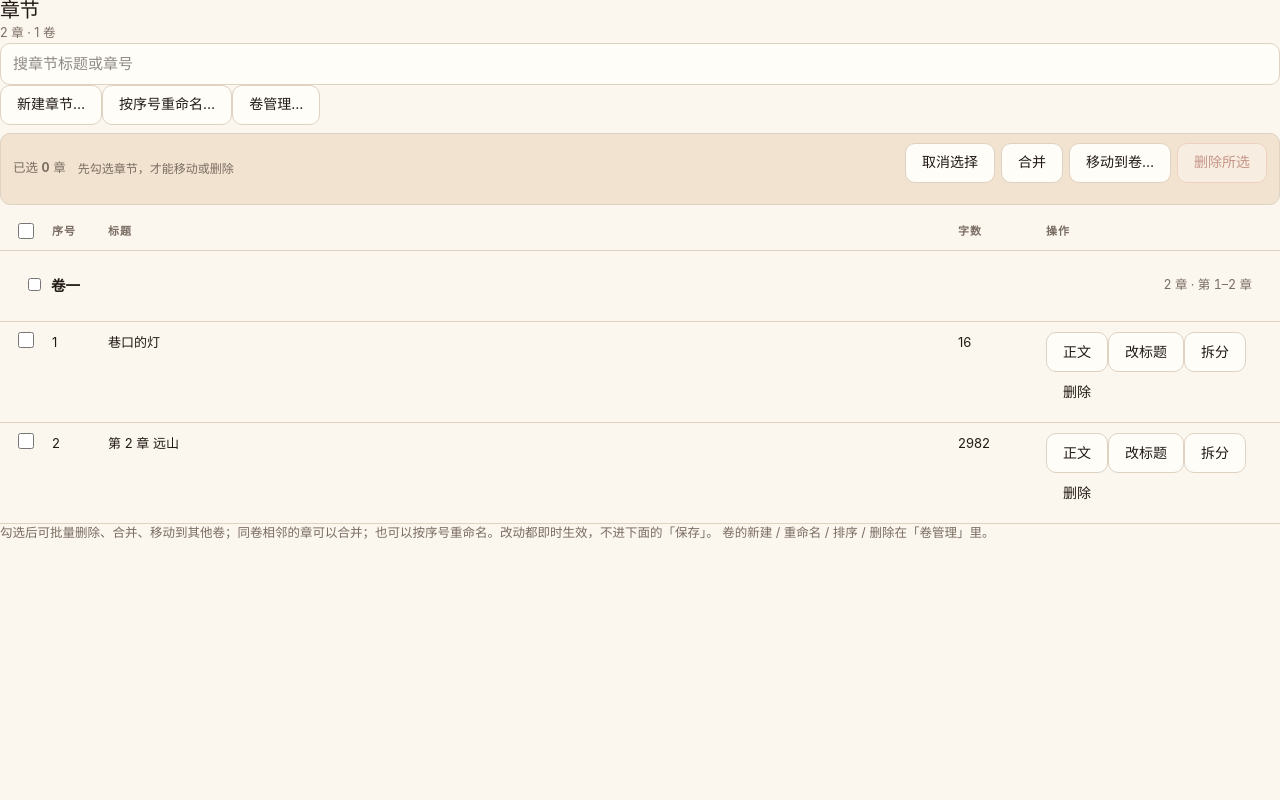
章节正文抽屉：打开与实时统计 › 没改过就关闭，不弹确认，直接关掉
The width and height of the screenshot is (1280, 800).
Click the button with test id "admin-chapter-body-10".
click(1077, 352)  # box x1=1046 y1=332 x2=1108 y2=372
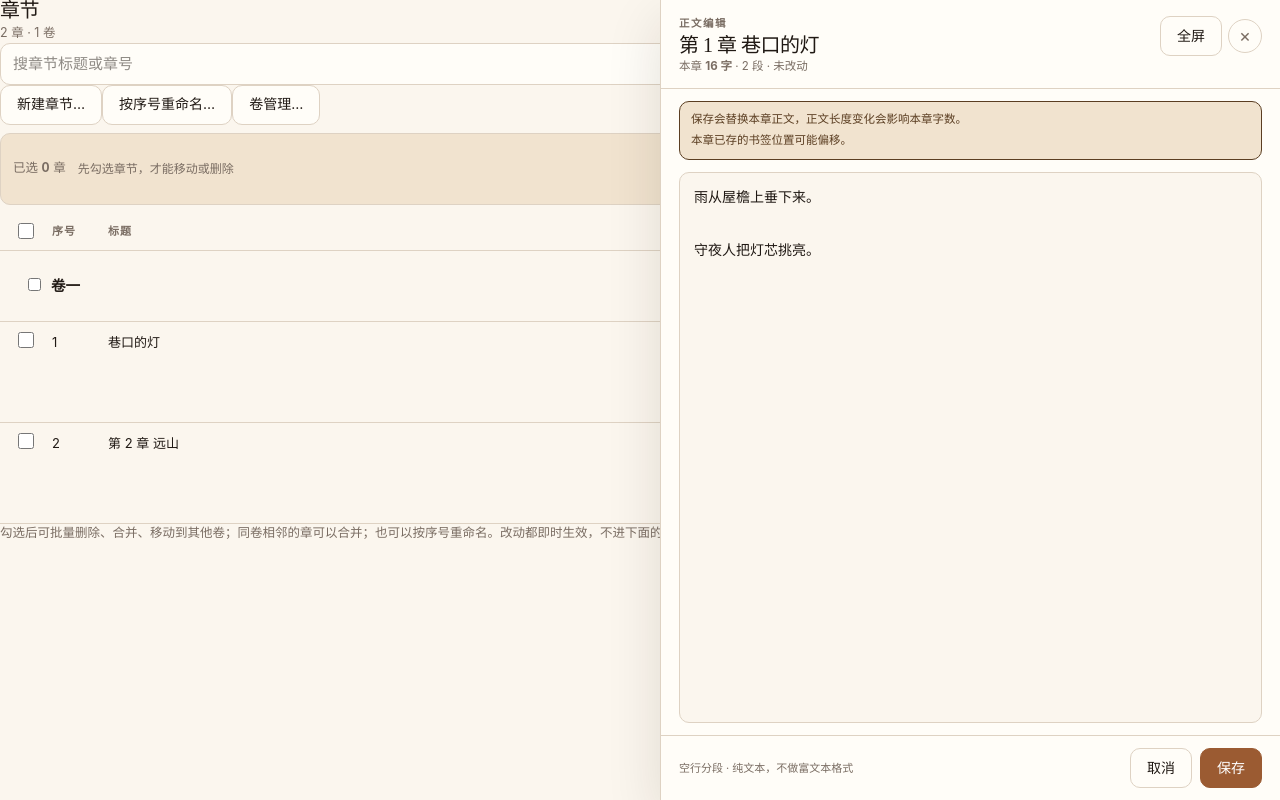
Click the button with test id "chapter-body-close".
click(1245, 36)  # box x1=1228 y1=19 x2=1262 y2=53
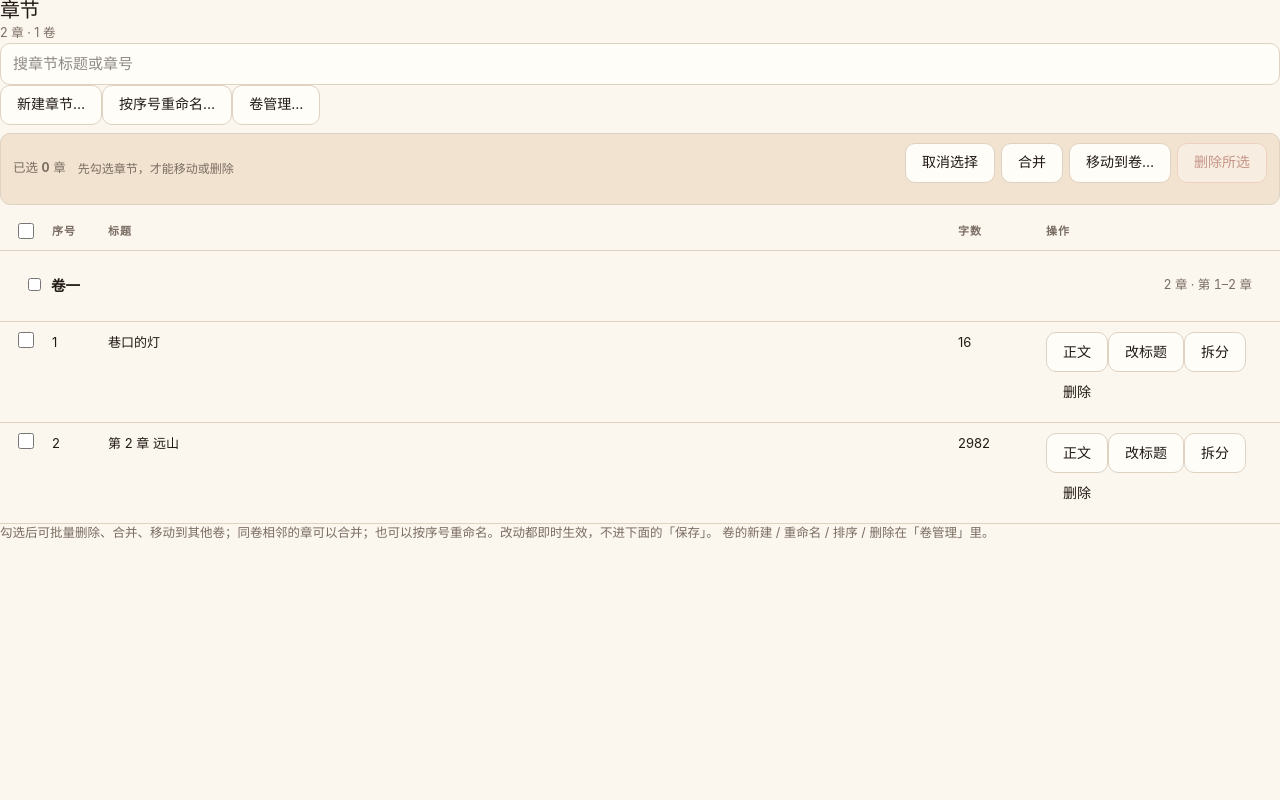
Result: the dialog with test id "chapter-body-drawer" is gone
